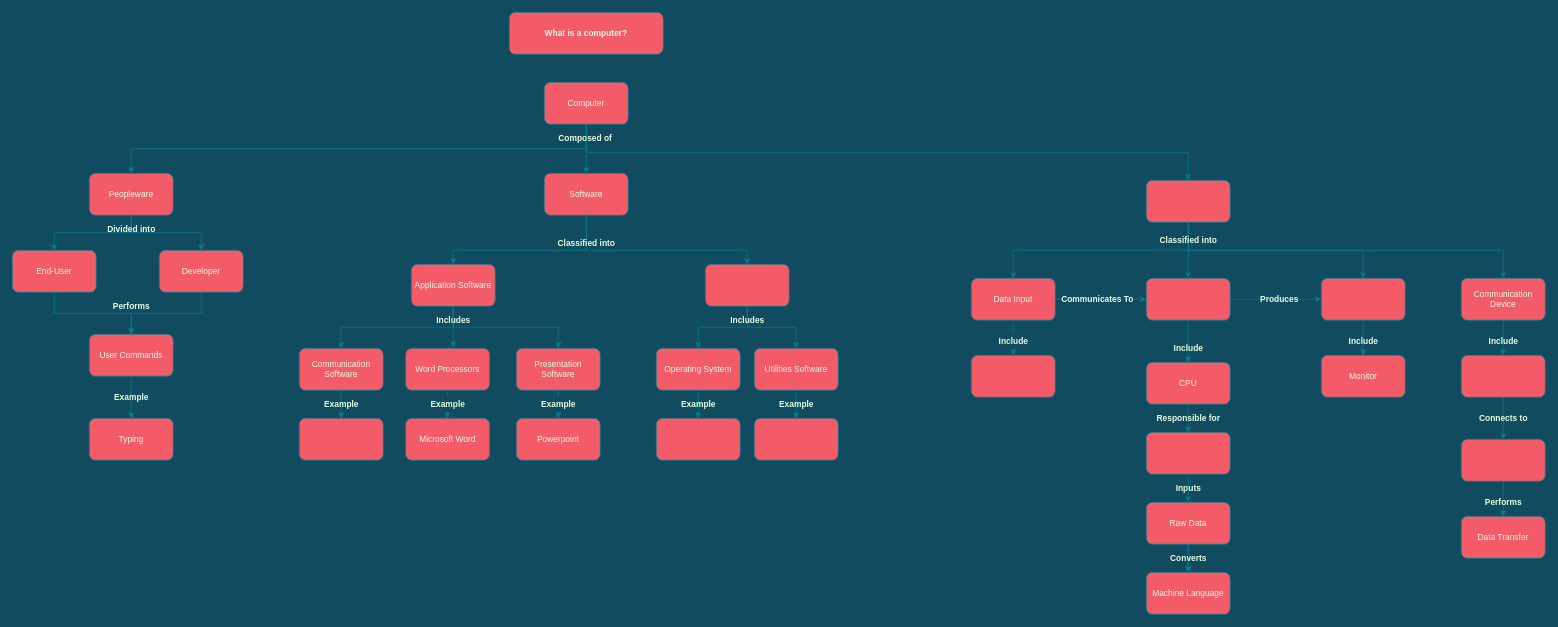
The diagram is 1558 pixels wide and 627 high, and some of its shapes have lost their labels. The centre of each missing label's shape, as x and y in pixels:
Data Output: (x=1363, y=299)
Data Processing: (x=1188, y=453)
Hardware: (x=1188, y=201)
Internet: (x=1503, y=460)
Keyboard: (x=1013, y=376)
McAfee: (x=796, y=439)
Outlook: (x=341, y=439)
Router: (x=1503, y=376)
System Software: (x=747, y=285)
System Unit: (x=1188, y=299)
Windows 10: (x=698, y=439)
